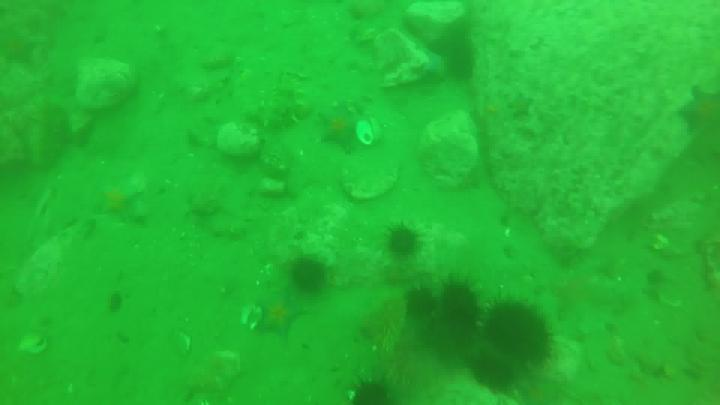echinus: (482, 296, 558, 367), (443, 275, 483, 324), (387, 223, 423, 259), (294, 258, 325, 297), (407, 281, 434, 323), (353, 381, 390, 405)
holothurian: (264, 70, 305, 137)
scallop: (14, 332, 51, 355), (359, 116, 385, 147), (242, 305, 266, 331)
starfish: (324, 101, 364, 151), (262, 298, 307, 342)
